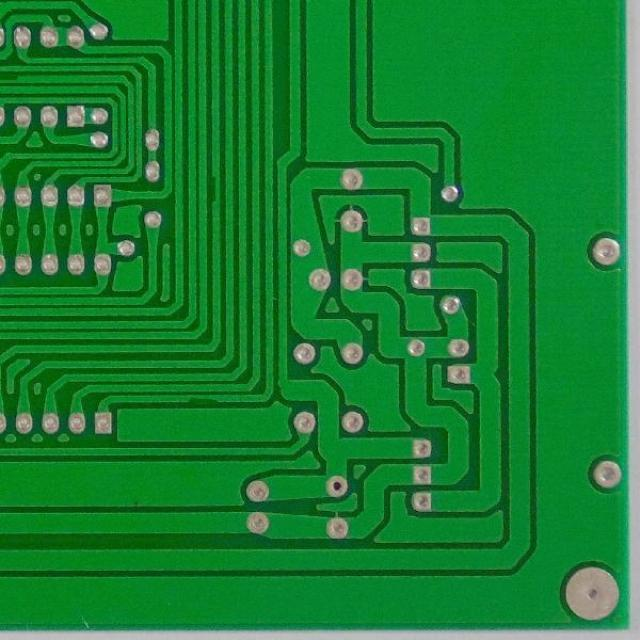Missing_Hole: (324, 474, 348, 498)
MouseBite: (208, 170, 223, 210), (183, 391, 222, 406), (0, 72, 24, 87)
